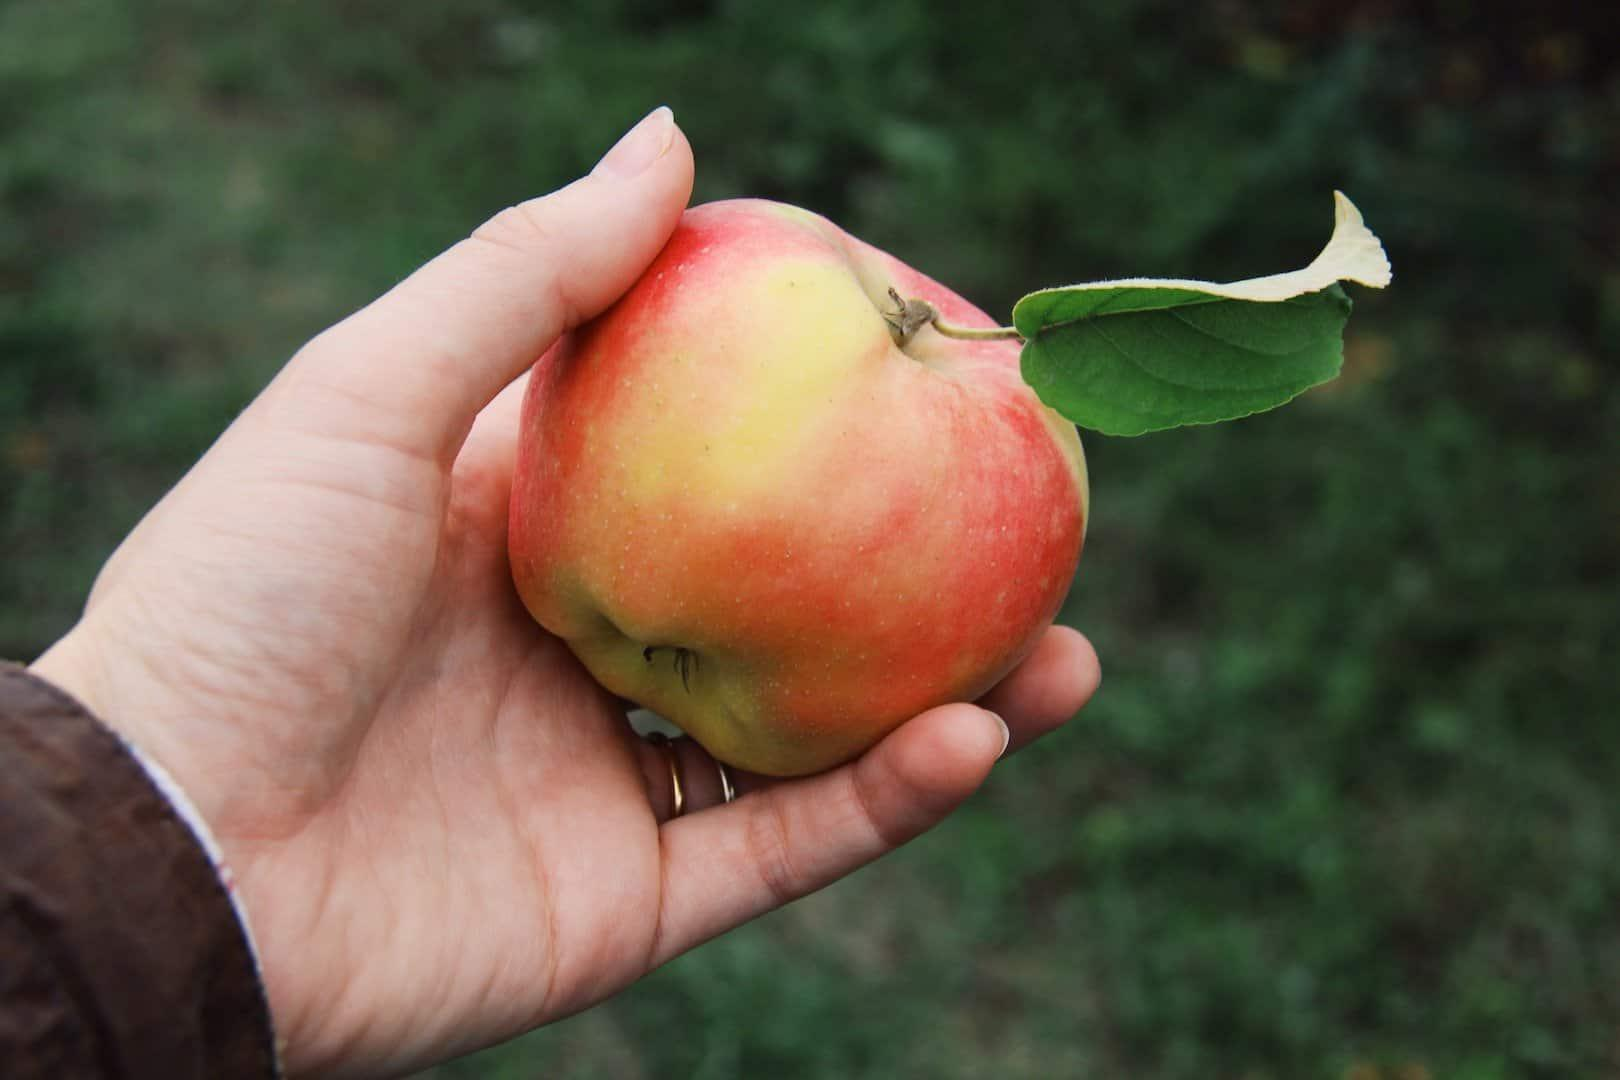apple: (505, 194, 1091, 779)
